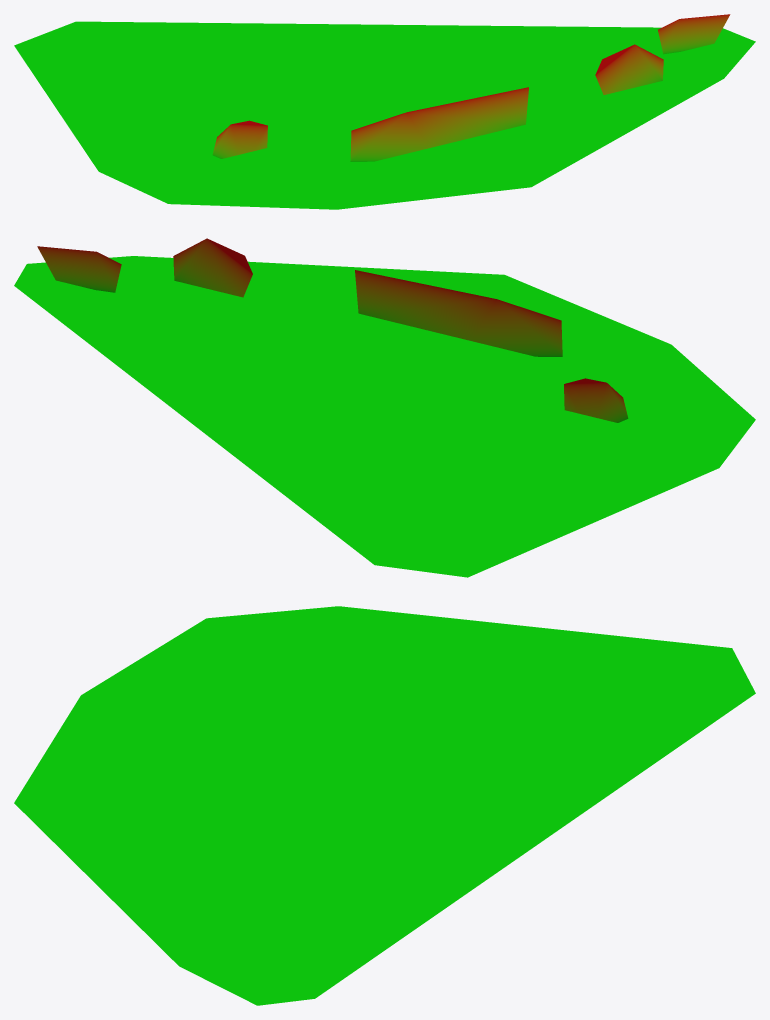
Rendered from Var5_LOD3.fbx.
The picture shows the model from 3 angles, top to bottom: view 1: azimuth 30°, elevation 25°; view 2: azimuth 150°, elevation 25°; view 3: azimuth 270°, elevation 25°; orthographic projection. The views are drawn at different scales.
Parts seen in each view (by area): view 1: _0b57_Var5_LOD3; view 2: _0b57_Var5_LOD3; view 3: _0b57_Var5_LOD3.
Part boxes in pixels (x1,y1,x2,y2): _0b57_Var5_LOD3: [14, 14, 755, 209]; _0b57_Var5_LOD3: [14, 238, 755, 577]; _0b57_Var5_LOD3: [14, 606, 755, 1005].
Size of the model in its own units: 177 by 16.25 by 139.
